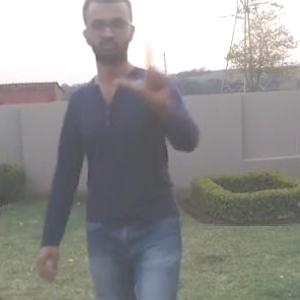land_hand: (112, 30, 182, 120)
